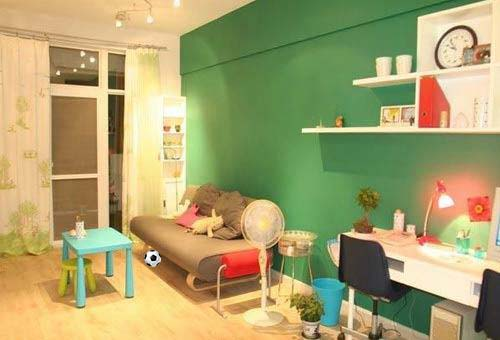copymove: (394, 52, 414, 80)
removal: (305, 82, 333, 122)
spliced: (145, 246, 162, 269)
